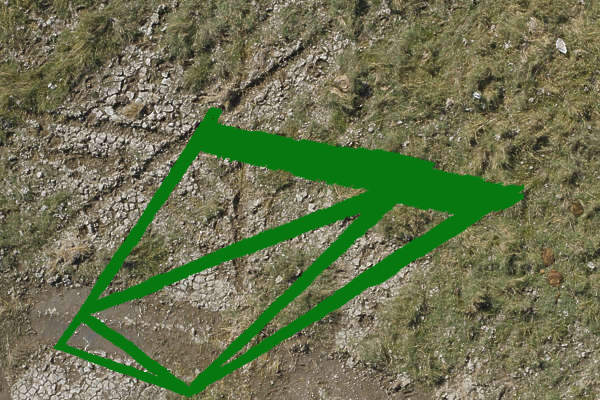marker: (49, 104, 527, 400)
